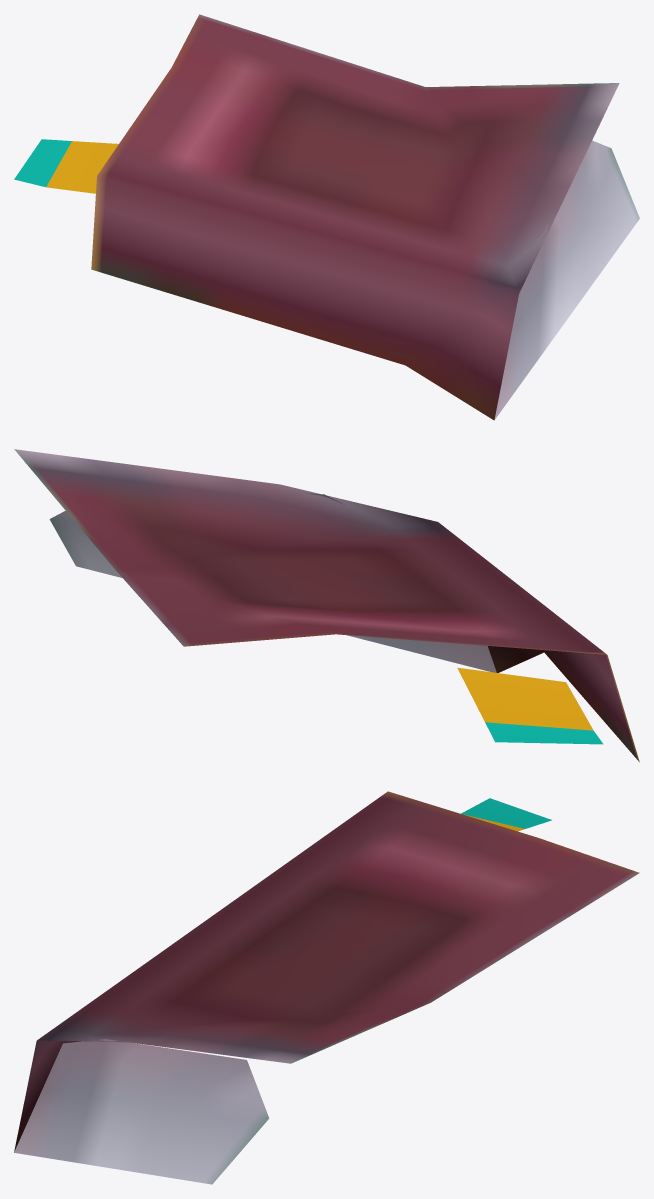
The model's file is fg_book_out.dae.
The picture shows the model from 3 angles, top to bottom: view 1: azimuth 30°, elevation 25°; view 2: azimuth 150°, elevation 25°; view 3: azimuth 270°, elevation 25°; orthographic projection. The views are drawn at different scales.
Parts seen in each view (by area): view 1: fg_book_out; view 2: fg_book_out; view 3: fg_book_out.
Boxes of the visible parts, x1,y1,x2,y2 form: fg_book_out: (14, 14, 639, 420); fg_book_out: (14, 449, 639, 762); fg_book_out: (14, 791, 639, 1184).
Bounding box in the file's own units: 19.72 × 7.97 × 17.27.
1 material, 1 textured.
